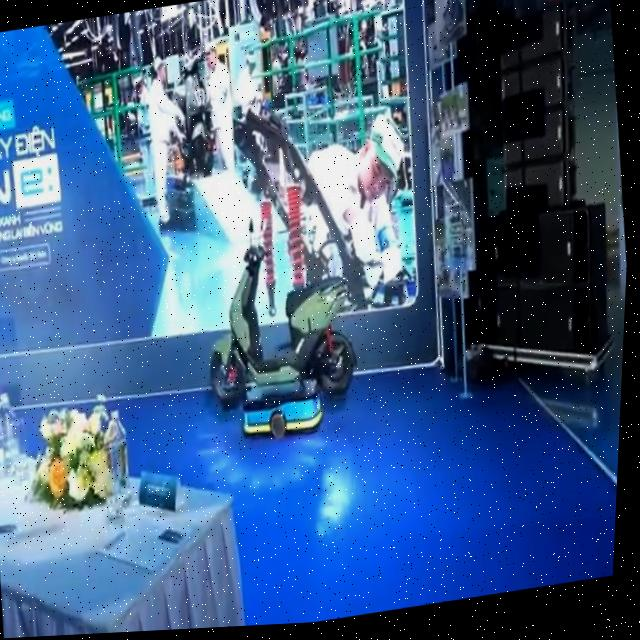motorcycle: (188, 200, 368, 414)
